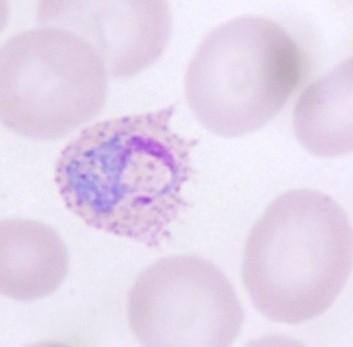Infected: (49, 110, 196, 253)
Uninfected: (242, 188, 353, 321), (185, 12, 292, 140), (0, 28, 104, 140), (125, 254, 244, 347), (33, 0, 172, 79), (295, 60, 353, 158), (0, 219, 65, 300)
